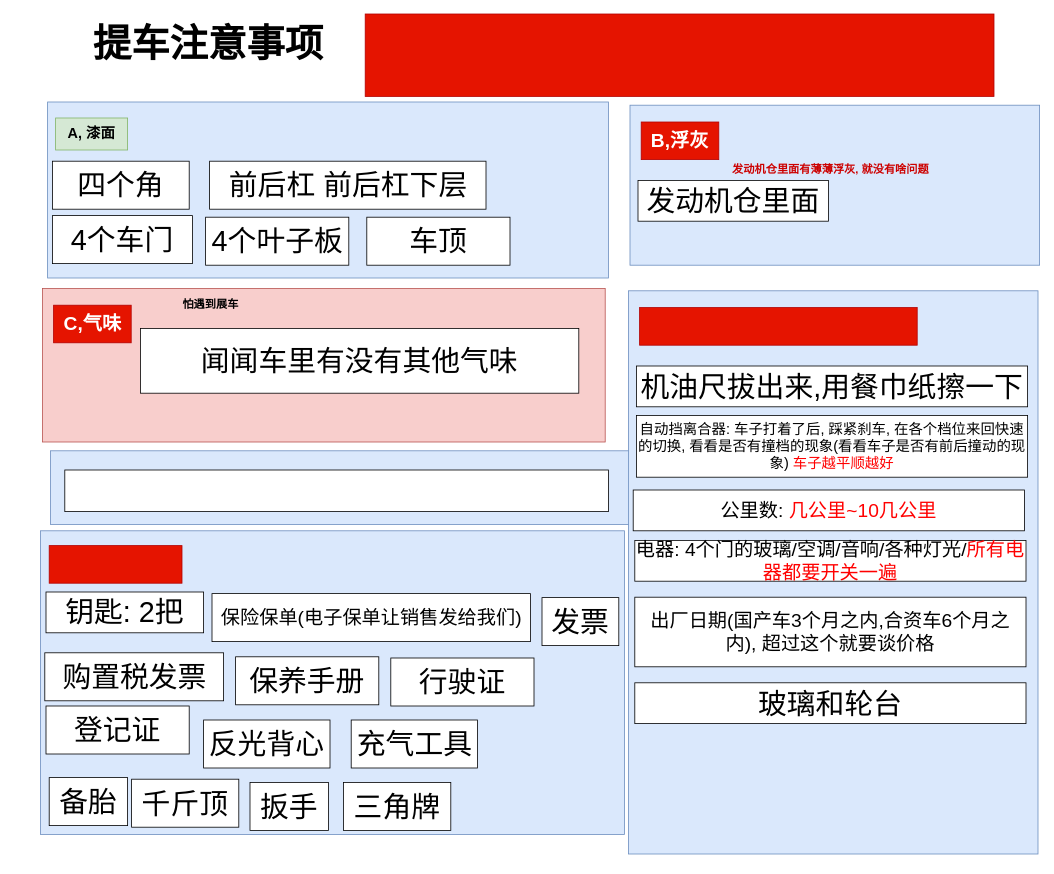
The diagram is 1054 pixels wide and 874 high, and some of its shapes have lost their labels. The centre of each missing label's shape, as x and y in pixels:
D, 发动机/日期/玻璃/公里数: pixel 778 326
E, 手续/工具: pixel 115 564
一定要先验车再交钱: pixel 679 54
座椅: 模一定要撕开(万一有划痕有口子): pixel 336 490
